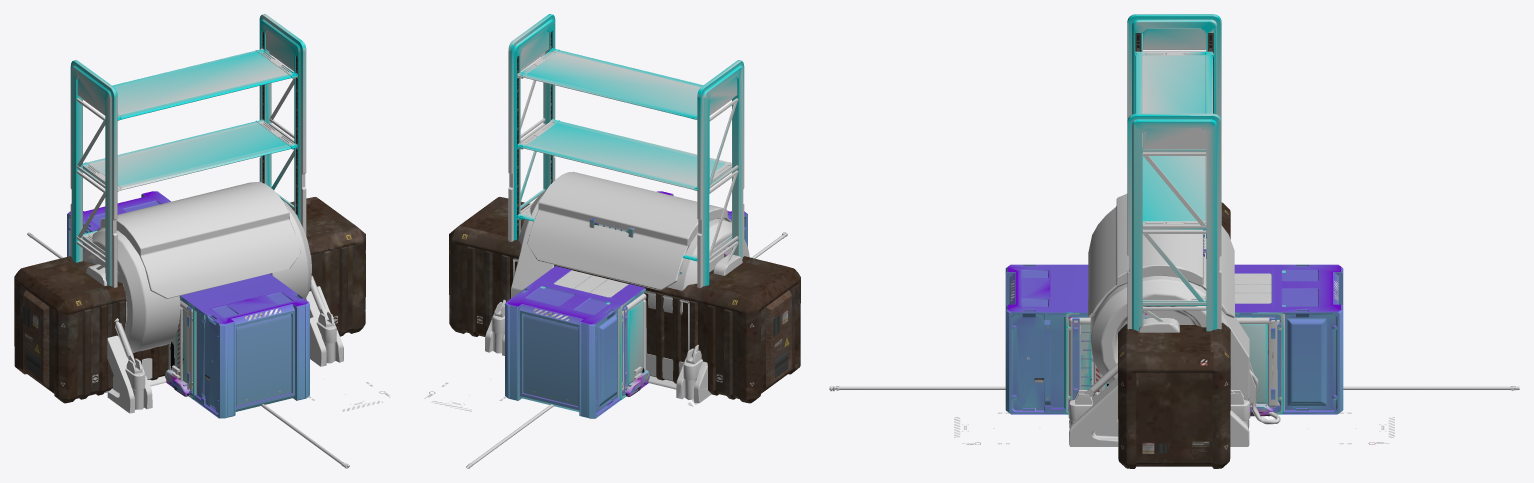
File: deko.glb
3 renders of one model, left to right at view 1: azimuth 30°, elevation 25°; view 2: azimuth 150°, elevation 25°; view 3: azimuth 270°, elevation 25°, orthographic. The views are drawn at different scales.
Parts seen in each view (by area): view 1: prop_schlauch_hose_reel_1_065x045x045_a, prop_regal_storage_rack_1_02x0575x08_a, prop_fracht_hurston_freight_container_a, prop_fracht_storage_container_1_025x075x025_b, prop_fracht_shipping_container_1_025x05x025_a, prop_lager_storage_container_1_025x05x025_a, prop_schlauch_maintenance_hose_1_a; view 2: prop_regal_storage_rack_1_02x0575x08_a, prop_fracht_hurston_freight_container_a, prop_schlauch_hose_reel_1_065x045x045_a, prop_fracht_storage_container_1_025x075x025_b, prop_lager_storage_container_1_025x05x025_a, prop_fracht_shipping_container_1_025x05x025_a, prop_treibstoff_tank_gas_3_05x025x025_a, prop_schlauch_maintenance_hose_1_a; view 3: prop_regal_storage_rack_1_02x0575x08_a, prop_fracht_storage_container_1_025x075x025_b, prop_schlauch_hose_reel_1_065x045x045_a, prop_fracht_hurston_freight_container_a, prop_lager_storage_container_1_025x05x025_a, prop_fracht_shipping_container_1_025x05x025_a, prop_schlauch_maintenance_hose_1_a, prop_fracht_cargo_multipurpose_1_025x025x05_a.
Boxes of the visible parts, x1,y1,x2,y2 form: prop_schlauch_hose_reel_1_065x045x045_a: (83,181,343,413); prop_regal_storage_rack_1_02x0575x08_a: (70,14,306,392); prop_fracht_hurston_freight_container_a: (14,197,365,403); prop_fracht_storage_container_1_025x075x025_b: (67,191,309,418); prop_fracht_shipping_container_1_025x05x025_a: (168,300,192,390); prop_lager_storage_container_1_025x05x025_a: (172,296,196,399); prop_schlauch_maintenance_hose_1_a: (27,232,349,468); prop_regal_storage_rack_1_02x0575x08_a: (508,14,744,287); prop_fracht_hurston_freight_container_a: (449,197,800,403); prop_schlauch_hose_reel_1_065x045x045_a: (485,171,749,403); prop_fracht_storage_container_1_025x075x025_b: (505,191,747,418); prop_lager_storage_container_1_025x05x025_a: (540,286,645,399); prop_fracht_shipping_container_1_025x05x025_a: (554,270,646,390); prop_treibstoff_tank_gas_3_05x025x025_a: (513,258,689,389); prop_schlauch_maintenance_hose_1_a: (466,232,787,468); prop_regal_storage_rack_1_02x0575x08_a: (1127,14,1221,331); prop_fracht_storage_container_1_025x075x025_b: (1005,264,1343,414); prop_schlauch_hose_reel_1_065x045x045_a: (1068,194,1280,446); prop_fracht_hurston_freight_container_a: (1118,202,1230,468); prop_lager_storage_container_1_025x05x025_a: (1064,270,1285,414); prop_fracht_shipping_container_1_025x05x025_a: (1069,273,1279,407); prop_schlauch_maintenance_hose_1_a: (829,386,1519,391); prop_fracht_cargo_multipurpose_1_025x025x05_a: (1072,317,1276,408).
Size of the model in its own units: 8.65 by 7.99 by 15.32.
158 materials, 149 textured.
